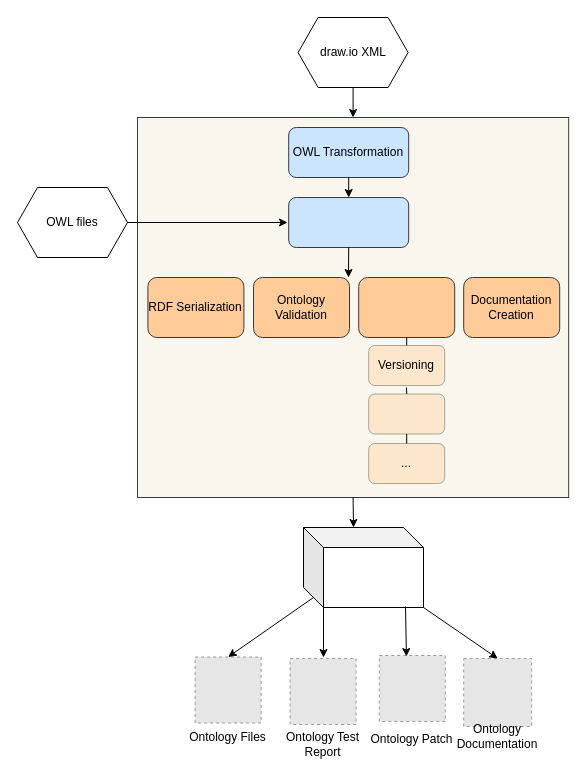
Some shapes in this 587 by 778 pixel diagram are drawn without their labels. Grey dashed boxes stand in for pictures. Here are the shapes that lost their labels. From the top down, the box of each, then its label:
(288, 196, 409, 248): Merging Ontology Files
(358, 276, 455, 338): Ontology Postprocessing
(368, 393, 445, 434): Diff Detection
(302, 526, 424, 608): Ontology Artifact Package
